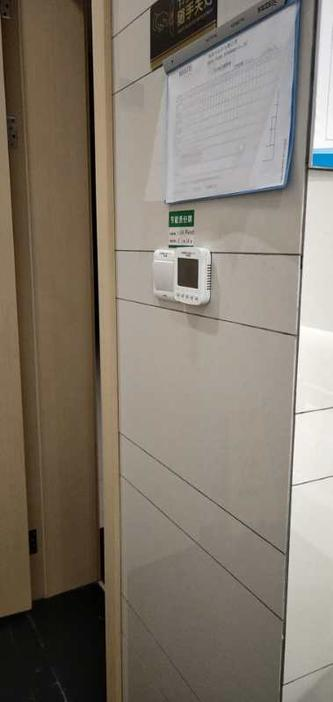switch: (146, 256, 179, 289)
